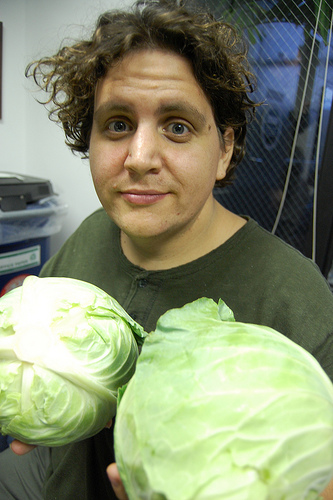cabbage: (112, 297, 329, 498), (0, 272, 155, 453)
